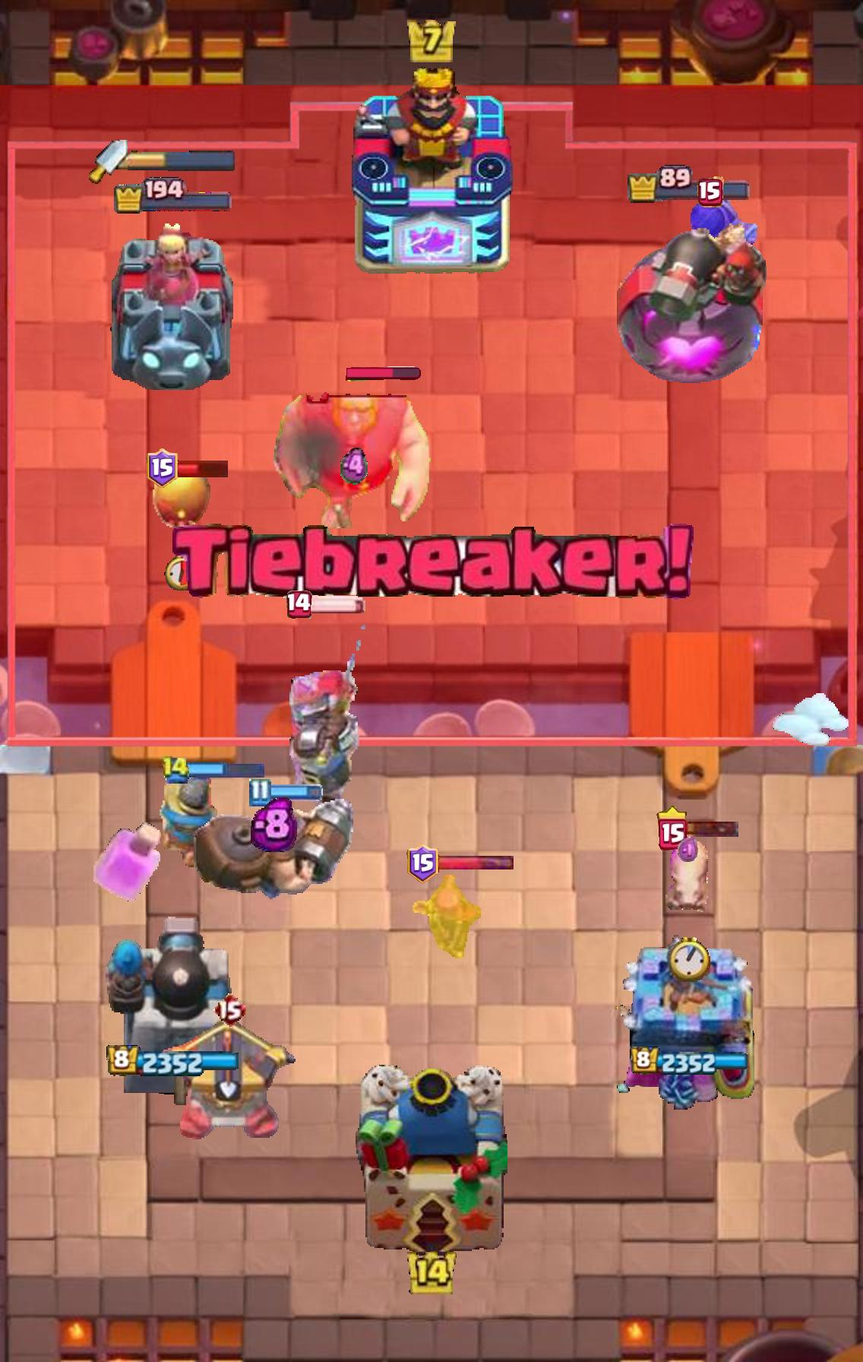elixir: (250, 796, 297, 852), (340, 446, 368, 487), (678, 836, 700, 864)
